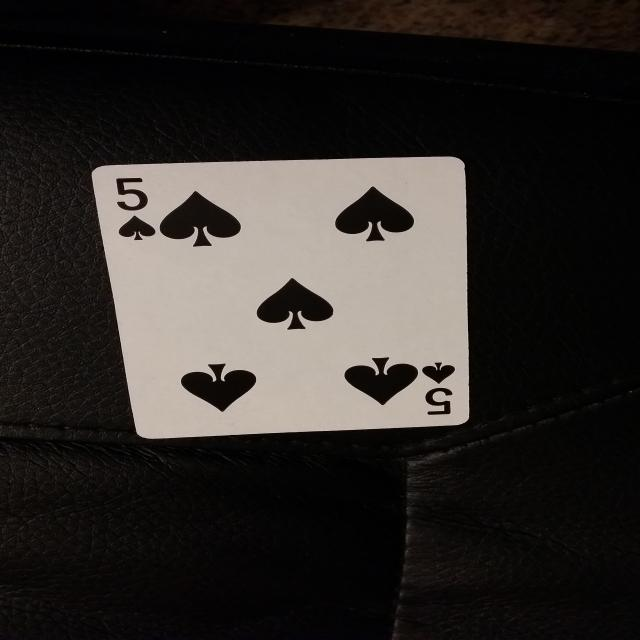5s: (98, 174, 169, 246), (410, 358, 462, 421)
